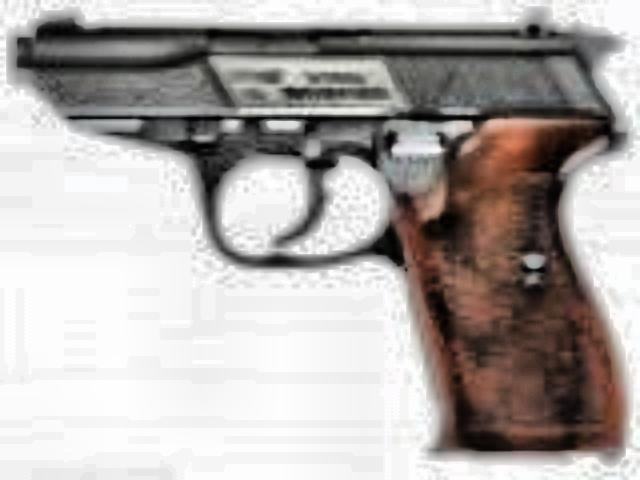pistol: (8, 4, 628, 452)
